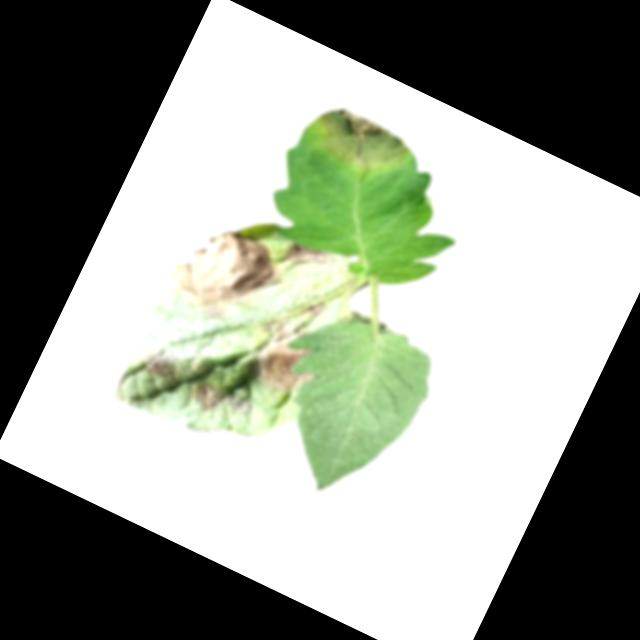Late_blight: (159, 213, 293, 342), (304, 99, 416, 188), (246, 314, 328, 399), (183, 374, 255, 432), (282, 236, 337, 281), (138, 341, 182, 383), (301, 294, 328, 322)
healthy: (235, 292, 446, 515)
